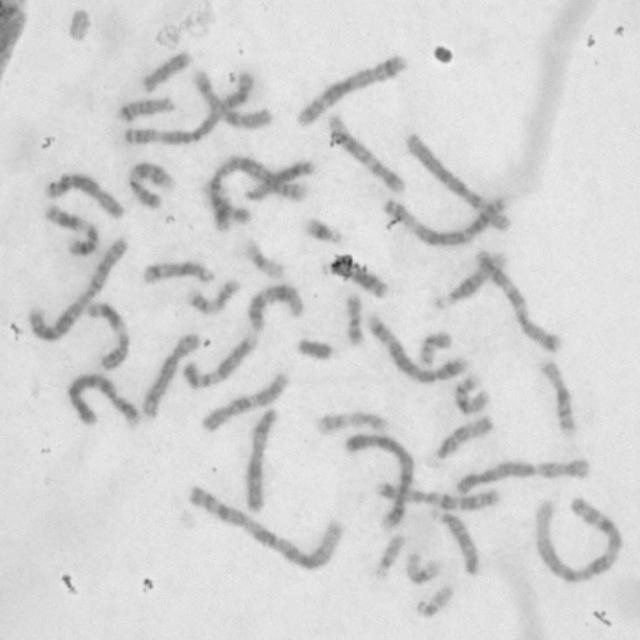A1: (186, 483, 344, 572), (533, 496, 624, 586)
A2: (27, 236, 129, 345), (208, 155, 308, 232)
A3: (121, 71, 254, 147), (382, 195, 508, 247)
B4: (345, 429, 415, 529), (66, 369, 143, 429)
B5: (296, 54, 409, 128), (366, 312, 468, 384)
C10: (200, 372, 291, 435), (190, 67, 274, 131)
C11: (87, 301, 131, 371), (43, 203, 100, 257)
C12: (325, 112, 407, 195), (245, 282, 306, 332)
C6: (403, 132, 515, 236), (456, 457, 592, 495)
C7: (472, 245, 565, 356), (376, 480, 501, 512)
C8: (139, 330, 201, 420), (45, 170, 126, 222)
C9: (181, 333, 258, 392), (126, 158, 176, 211)
D13: (242, 159, 316, 203), (321, 260, 388, 300)
D14: (432, 252, 508, 311), (141, 258, 217, 286)
D15: (430, 507, 483, 578), (434, 413, 493, 463)
E16: (539, 358, 579, 438), (453, 371, 489, 416)
E17: (184, 277, 244, 317), (316, 410, 388, 434)
E18: (142, 49, 192, 94), (114, 94, 178, 124)
F19: (242, 238, 286, 280), (404, 550, 442, 583)
F20: (418, 330, 452, 369), (344, 291, 366, 346)
G21: (304, 216, 346, 246), (212, 194, 234, 232)
G22: (414, 581, 454, 618), (376, 532, 406, 578)
X: (243, 407, 280, 514)
Y: (294, 336, 336, 361)
